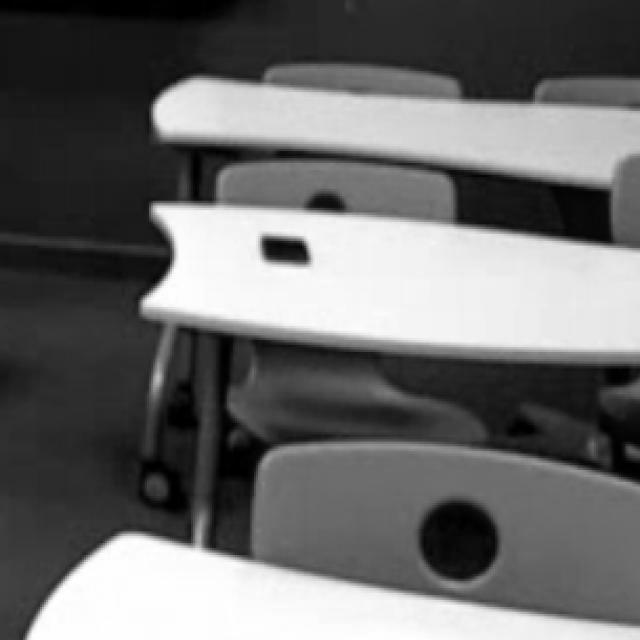fake: (247, 217, 329, 285)
